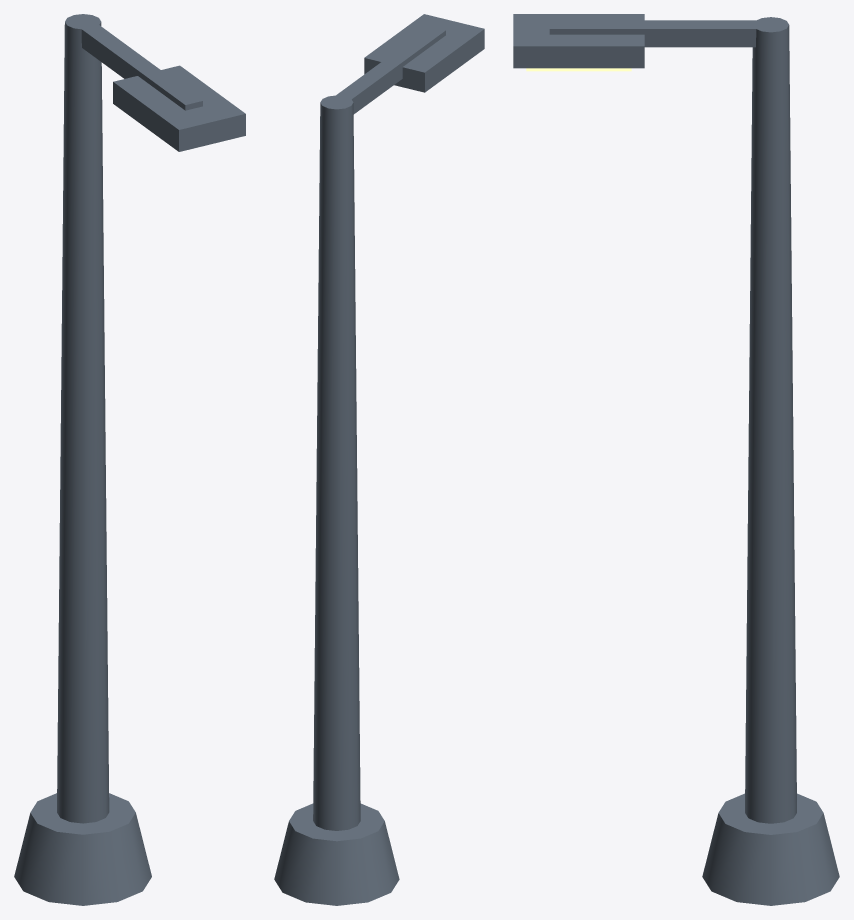
File: street_lamp_modern.glb
3 views of the same model, side by side, from view 1: azimuth 30°, elevation 25°; view 2: azimuth 150°, elevation 25°; view 3: azimuth 270°, elevation 25° (orthographic). The views are drawn at different scales.
Parts seen in each view (by area): view 1: street_lamp_modern; view 2: street_lamp_modern; view 3: street_lamp_modern.
Part boxes in pixels (bbox=[...]): street_lamp_modern: bbox=[14, 14, 245, 905]; street_lamp_modern: bbox=[274, 14, 484, 905]; street_lamp_modern: bbox=[513, 14, 839, 905].
Bounding box in the file's own units: 0.68 × 4.65 × 1.61.
